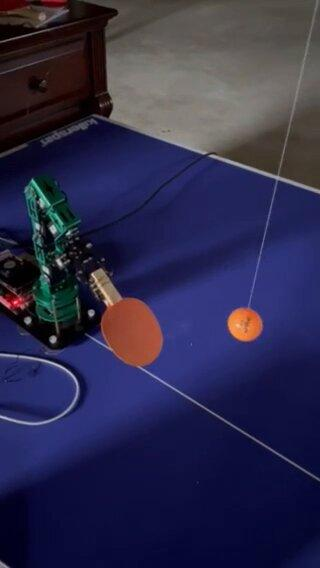oball: (228, 307, 265, 337)
